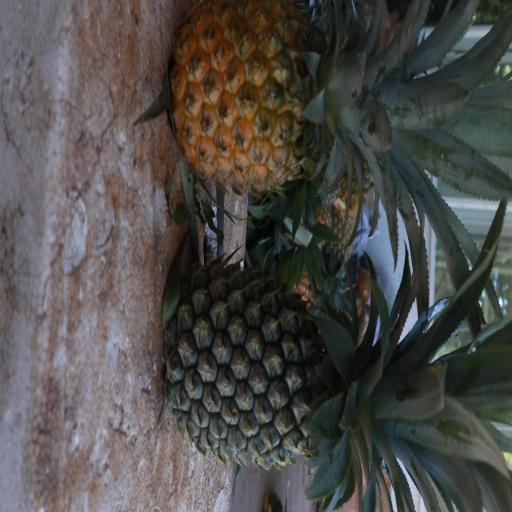Pineapple - v8 v1: (166, 0, 460, 184)
